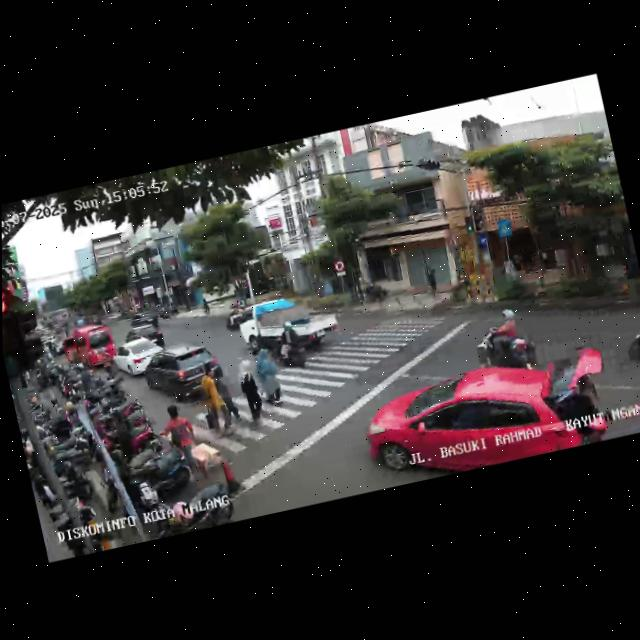car: (356, 346, 591, 489), (235, 284, 343, 366), (139, 336, 225, 408), (58, 322, 117, 376), (111, 334, 168, 380), (123, 321, 164, 352)
motorcycle: (469, 304, 541, 380), (271, 317, 312, 373), (613, 313, 640, 373)
person: (193, 363, 235, 441), (233, 352, 272, 428), (249, 343, 287, 412), (159, 403, 197, 468), (212, 365, 244, 427)
